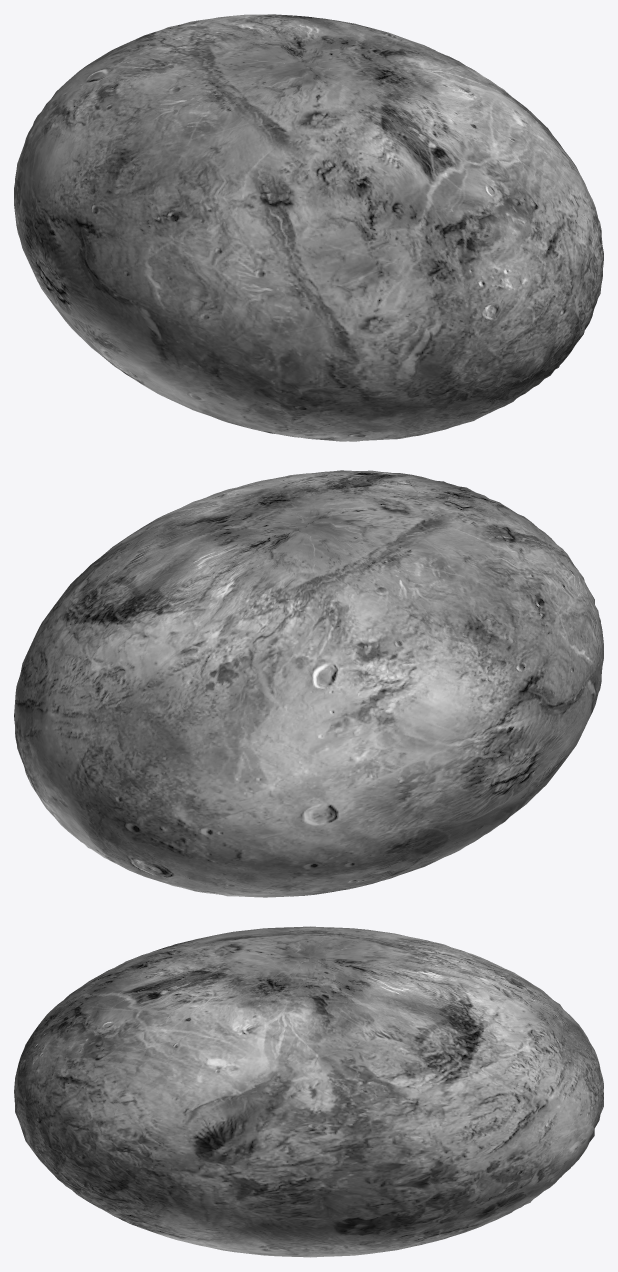
Rendered from haumea.gltf.
The picture shows the model from 3 angles, top to bottom: view 1: azimuth 30°, elevation 25°; view 2: azimuth 150°, elevation 25°; view 3: azimuth 270°, elevation 25°; orthographic projection. The views are drawn at different scales.
Parts seen in each view (by area): view 1: HAUMEA; view 2: HAUMEA; view 3: HAUMEA.
Boxes of the visible parts, bbox=[...] form: HAUMEA: bbox=[14, 14, 603, 441]; HAUMEA: bbox=[14, 470, 603, 897]; HAUMEA: bbox=[14, 926, 603, 1257].
Bounding box in the file's own units: 1.8 × 1.16 × 2.32.
1 material, 1 textured.
